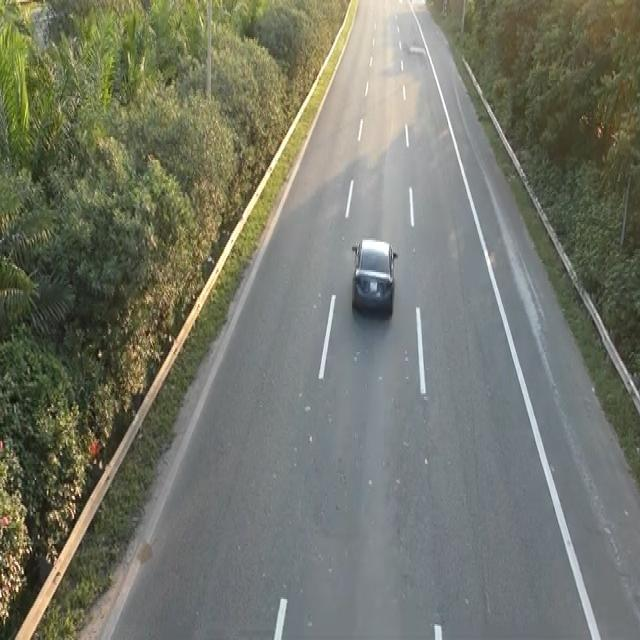bus: (349, 233, 398, 316)
